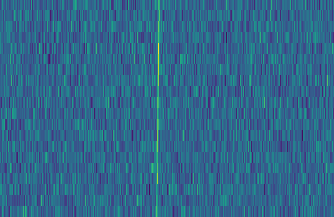signal: (151, 0, 162, 217)
